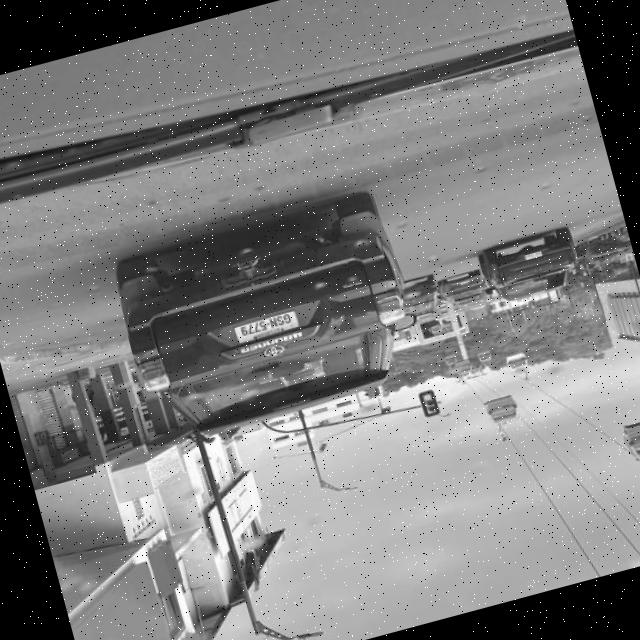Placa: (236, 311, 298, 342), (524, 250, 543, 260)
